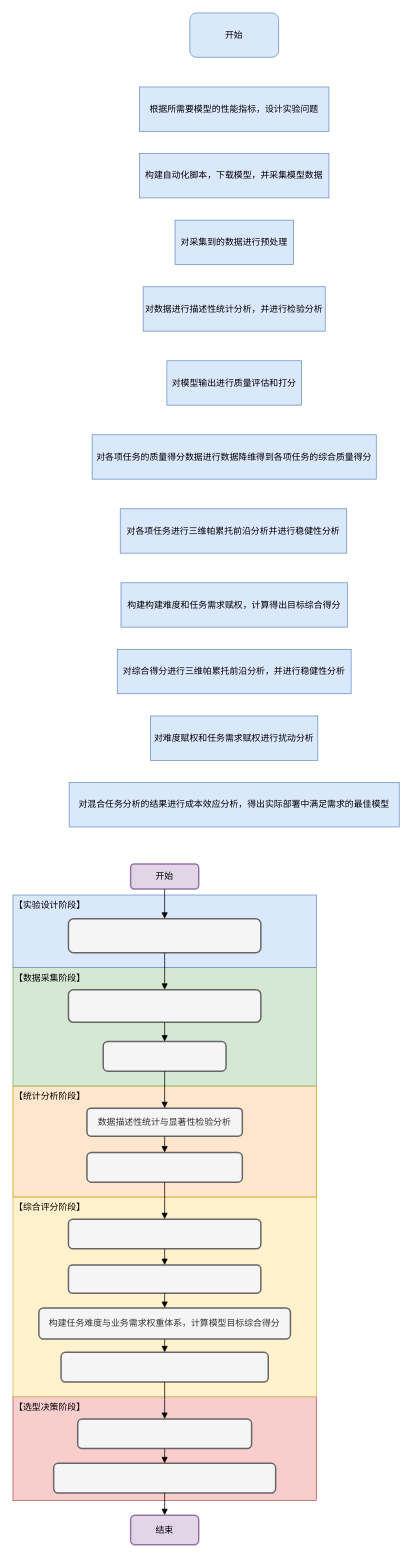
Image size: 412x1558. Some labels were removed from this diagram. Here are the shapes that lost their labels. From the top down, the centre of each, then its label:
the point at 164,935: 基于目标性能指标，设计实验方案与测试问题
the point at 164,1006: 开发自动化脚本，完成模型下载与测试数据采集
the point at 164,1056: 采集数据预处理与数据清洗
the point at 164,1167: 模型输出结果质量评估与量化打分
the point at 164,1233: 任务质量得分降维处理，计算单任务综合质量分
the point at 164,1279: 单任务维度三维帕累托前沿分析与稳健性检验
the point at 164,1366: 综合得分维度三维帕累托前沿分析与稳健性检验
the point at 164,1433: 难度权重与需求权重的敏感性扰动分析
the point at 164,1477: 混合任务场景成本-效应分析，输出适配部署的最优模型
